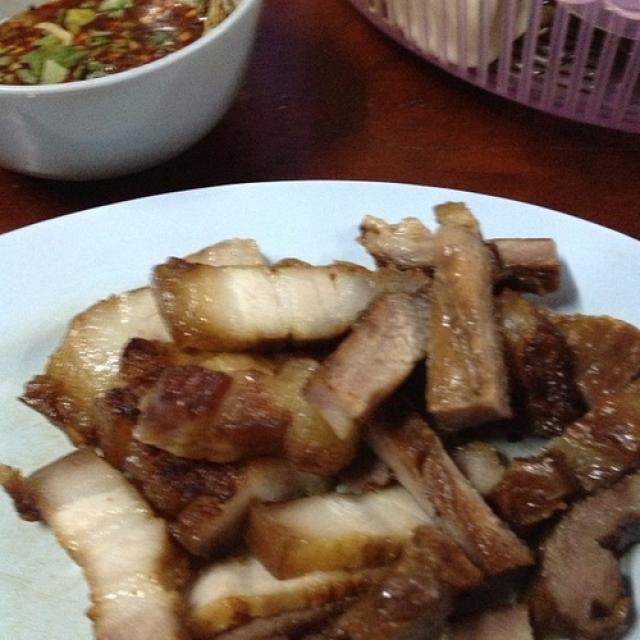猪肉菜式: (1, 167, 635, 628)
